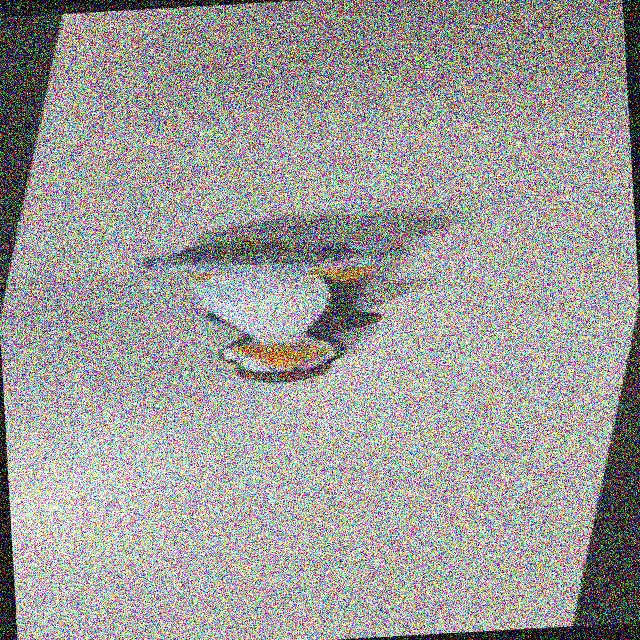Penguin: (121, 224, 425, 404)
